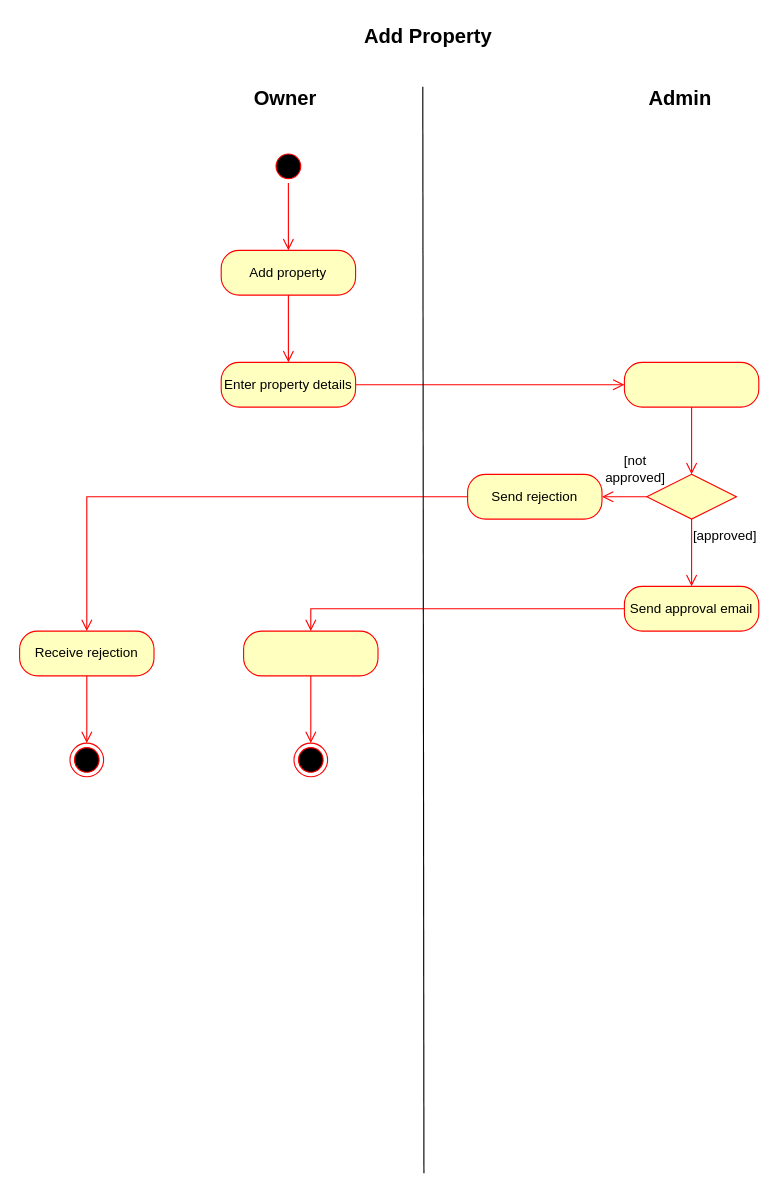
The diagram is 778 pixels wide and 1194 high, and some of its shapes have lost their labels. Here are the shapes that lost their labels. From the top down, the centre of each, then its label:
At (691,384): "Approve properties".
At (310,653): "Receive approval".
